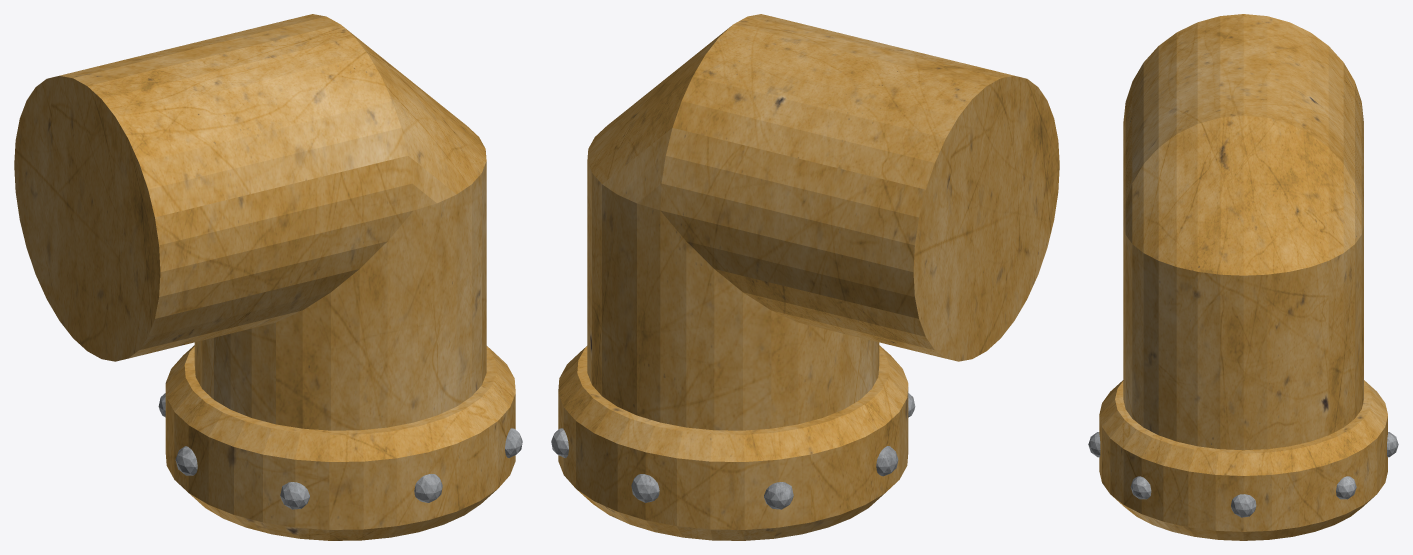
Rendered from pipe_L.fbx.
3 renders of one model, left to right at view 1: azimuth 30°, elevation 25°; view 2: azimuth 150°, elevation 25°; view 3: azimuth 270°, elevation 25°, orthographic. The views are drawn at different scales.
Visible parts, largest first — view 1: Cylinder; view 2: Cylinder; view 3: Cylinder.
Part boxes in pixels (bbox=[...]): Cylinder: bbox=[14, 14, 522, 540]; Cylinder: bbox=[551, 14, 1059, 540]; Cylinder: bbox=[1088, 14, 1398, 540].
Size of the model in its own units: 165 by 170 by 129.
Materials: 2 (2 with a texture image).
